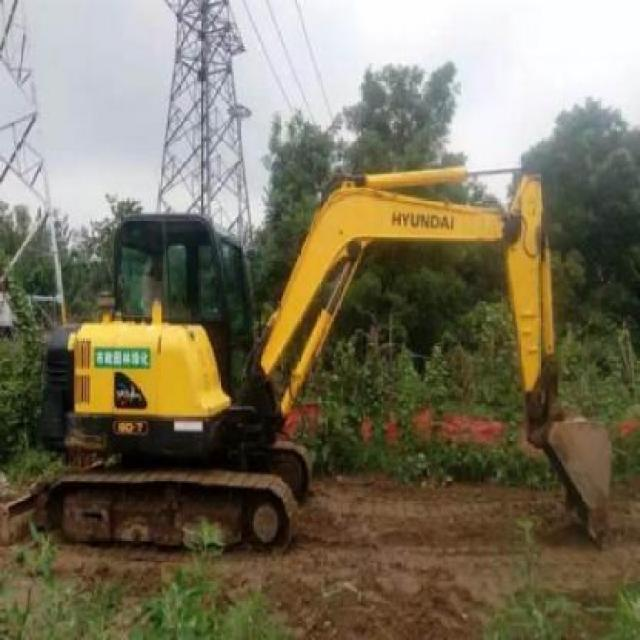Excavator: (44, 158, 621, 550)
